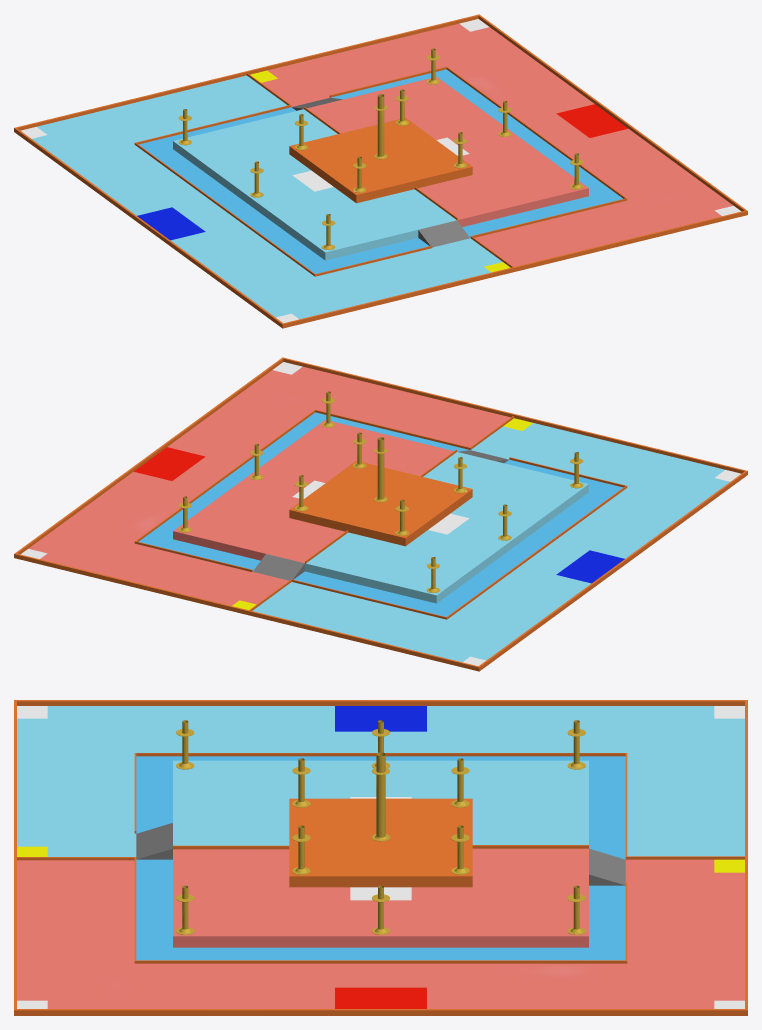
The model's file is abu2023_arena.dae.
3 renders of one model, top to bottom at view 1: azimuth 30°, elevation 25°; view 2: azimuth 150°, elevation 25°; view 3: azimuth 270°, elevation 25°, orthographic. The views are drawn at different scales.
Parts seen in each view (by area): view 1: full_map; view 2: full_map; view 3: full_map.
Part boxes in pixels (<box>): full_map: <box>14,14,747,328</box>; full_map: <box>14,357,747,671</box>; full_map: <box>14,700,747,1015</box>.
Bounding box in the file's own units: 12 × 12 × 1.92.
Materials: 1 (1 with a texture image).
